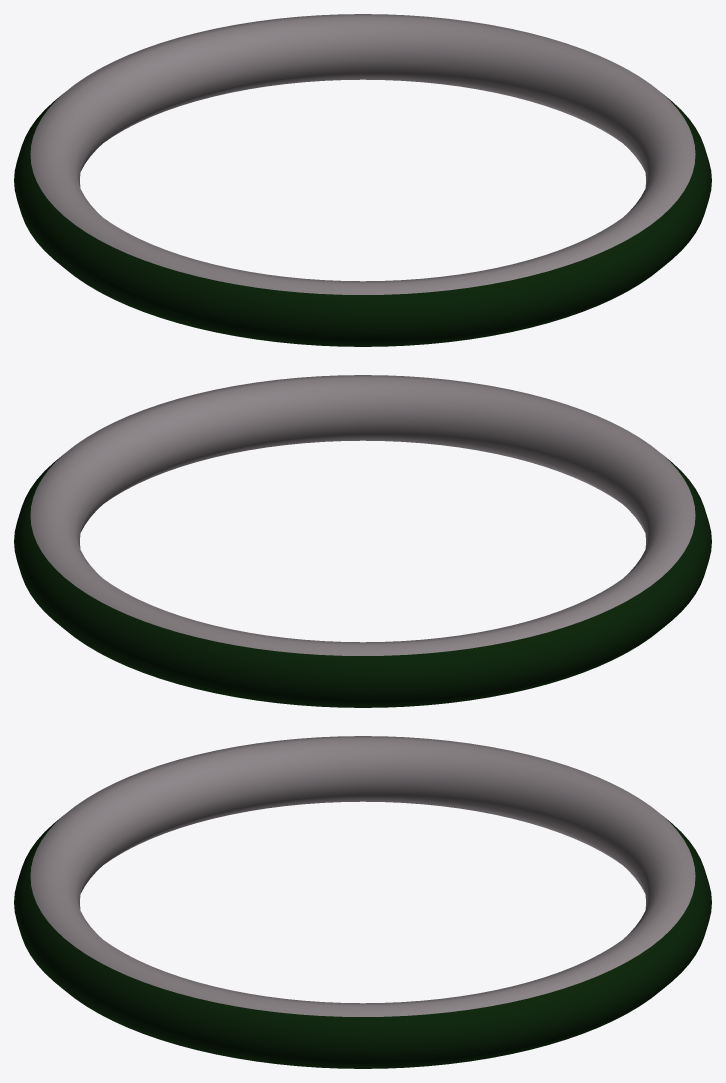
The model's file is onionmoldy(singular).fbx.
The picture shows the model from 3 angles, top to bottom: view 1: azimuth 30°, elevation 25°; view 2: azimuth 150°, elevation 25°; view 3: azimuth 270°, elevation 25°; orthographic projection.
Parts seen in each view (by area): view 1: Torus; view 2: Torus; view 3: Torus.
Boxes of the visible parts, x1,y1,x2,y2 form: Torus: (14,14,711,346); Torus: (14,375,711,707); Torus: (14,736,711,1068).
Bounding box in the file's own units: 209 × 19.66 × 209.
